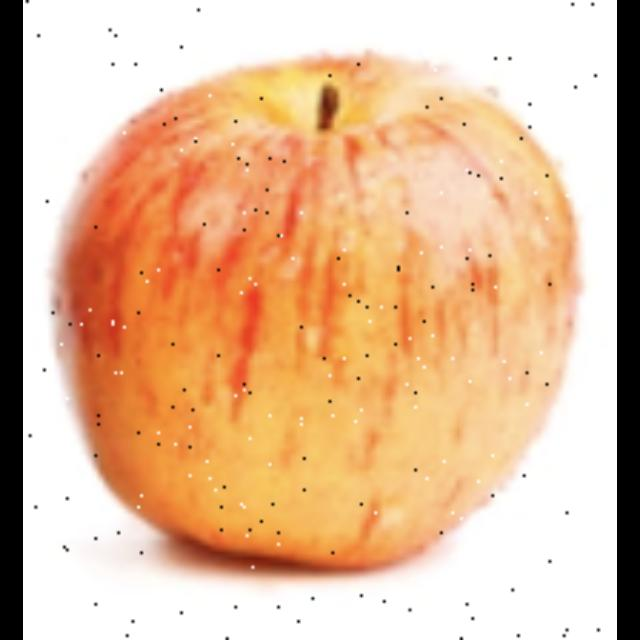Apel Segar: (58, 50, 588, 561)
